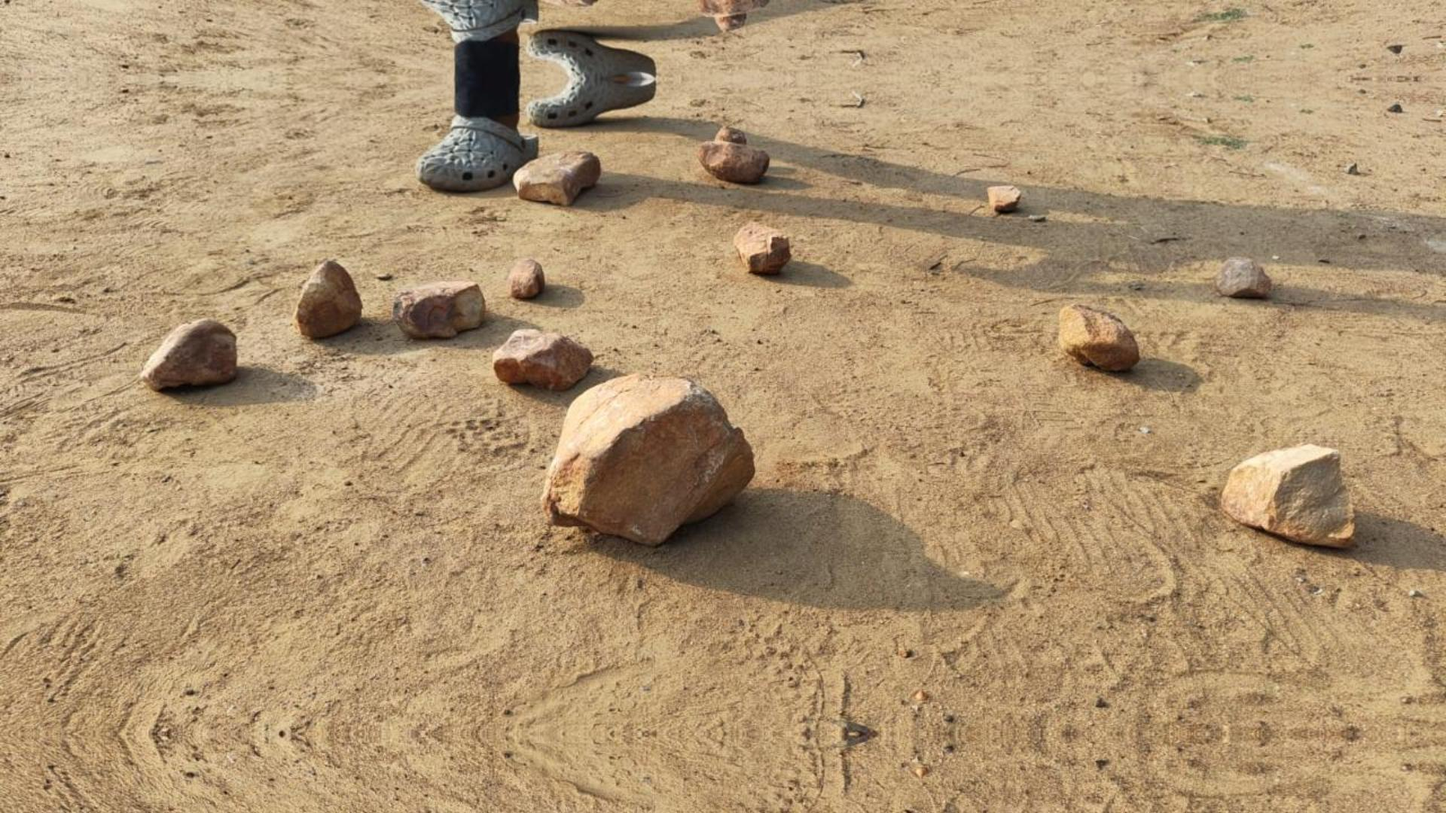rock: (542, 373, 754, 544), (1221, 444, 1353, 547), (140, 318, 236, 390), (493, 329, 593, 390), (294, 260, 362, 339), (392, 281, 485, 338), (1059, 304, 1139, 370), (513, 150, 601, 206), (696, 141, 768, 183), (733, 222, 790, 273), (1214, 257, 1271, 298), (507, 259, 545, 299), (698, 0, 768, 20), (987, 185, 1022, 212), (714, 126, 748, 143), (532, 0, 595, 8), (715, 14, 746, 30)
